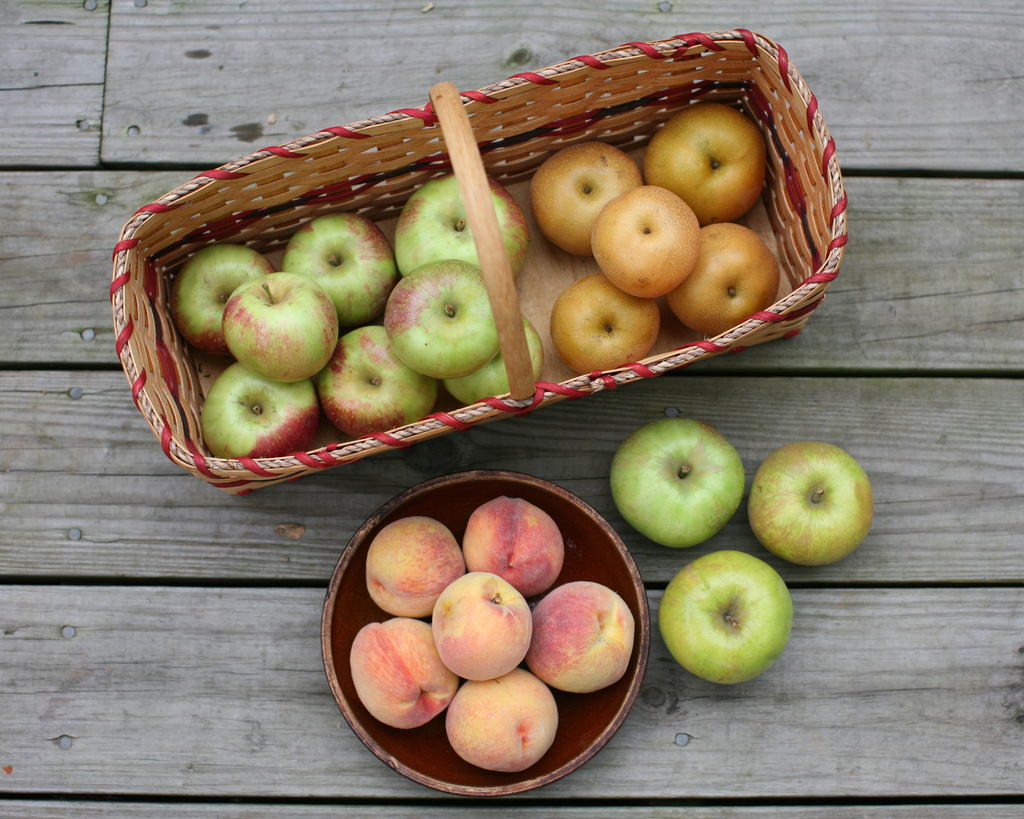Apple: (162, 102, 780, 456), (168, 172, 544, 456), (348, 496, 632, 771), (658, 545, 793, 682), (608, 417, 745, 545), (748, 440, 871, 569), (211, 274, 337, 383), (524, 577, 634, 693), (348, 614, 456, 731), (432, 568, 533, 682), (448, 667, 555, 773), (460, 496, 562, 595), (365, 517, 464, 614)
